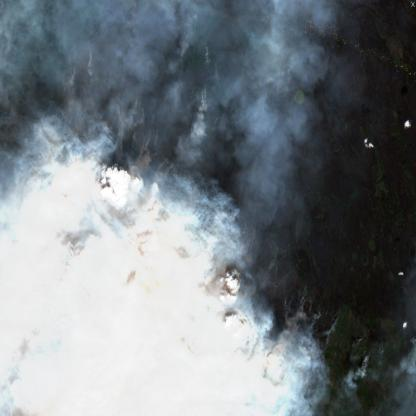fire: (51, 0, 416, 386)
